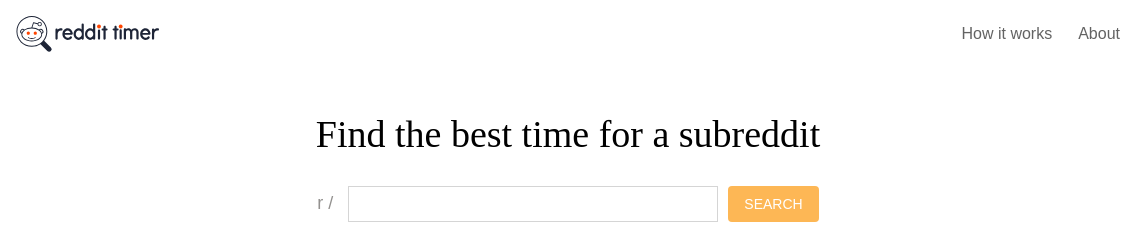
Test: Header › "How it works link points" to the correct page
What coordinates should you click on to do the following:
click the link "How it works"
I would click on:
 (1007, 34)
Its box is [962,26,1052,42].
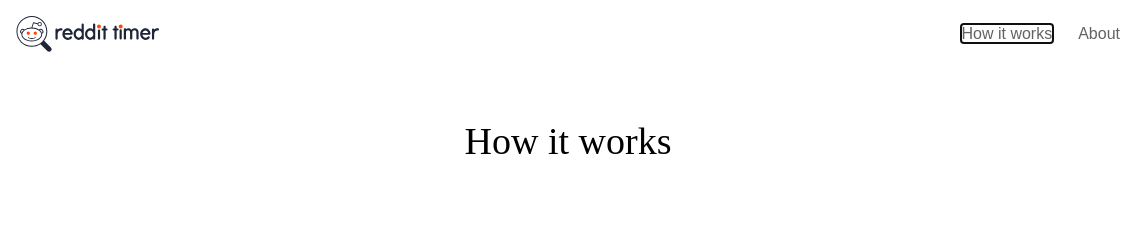
Result: the heading "How it works" is shown at [464,120,671,162]
